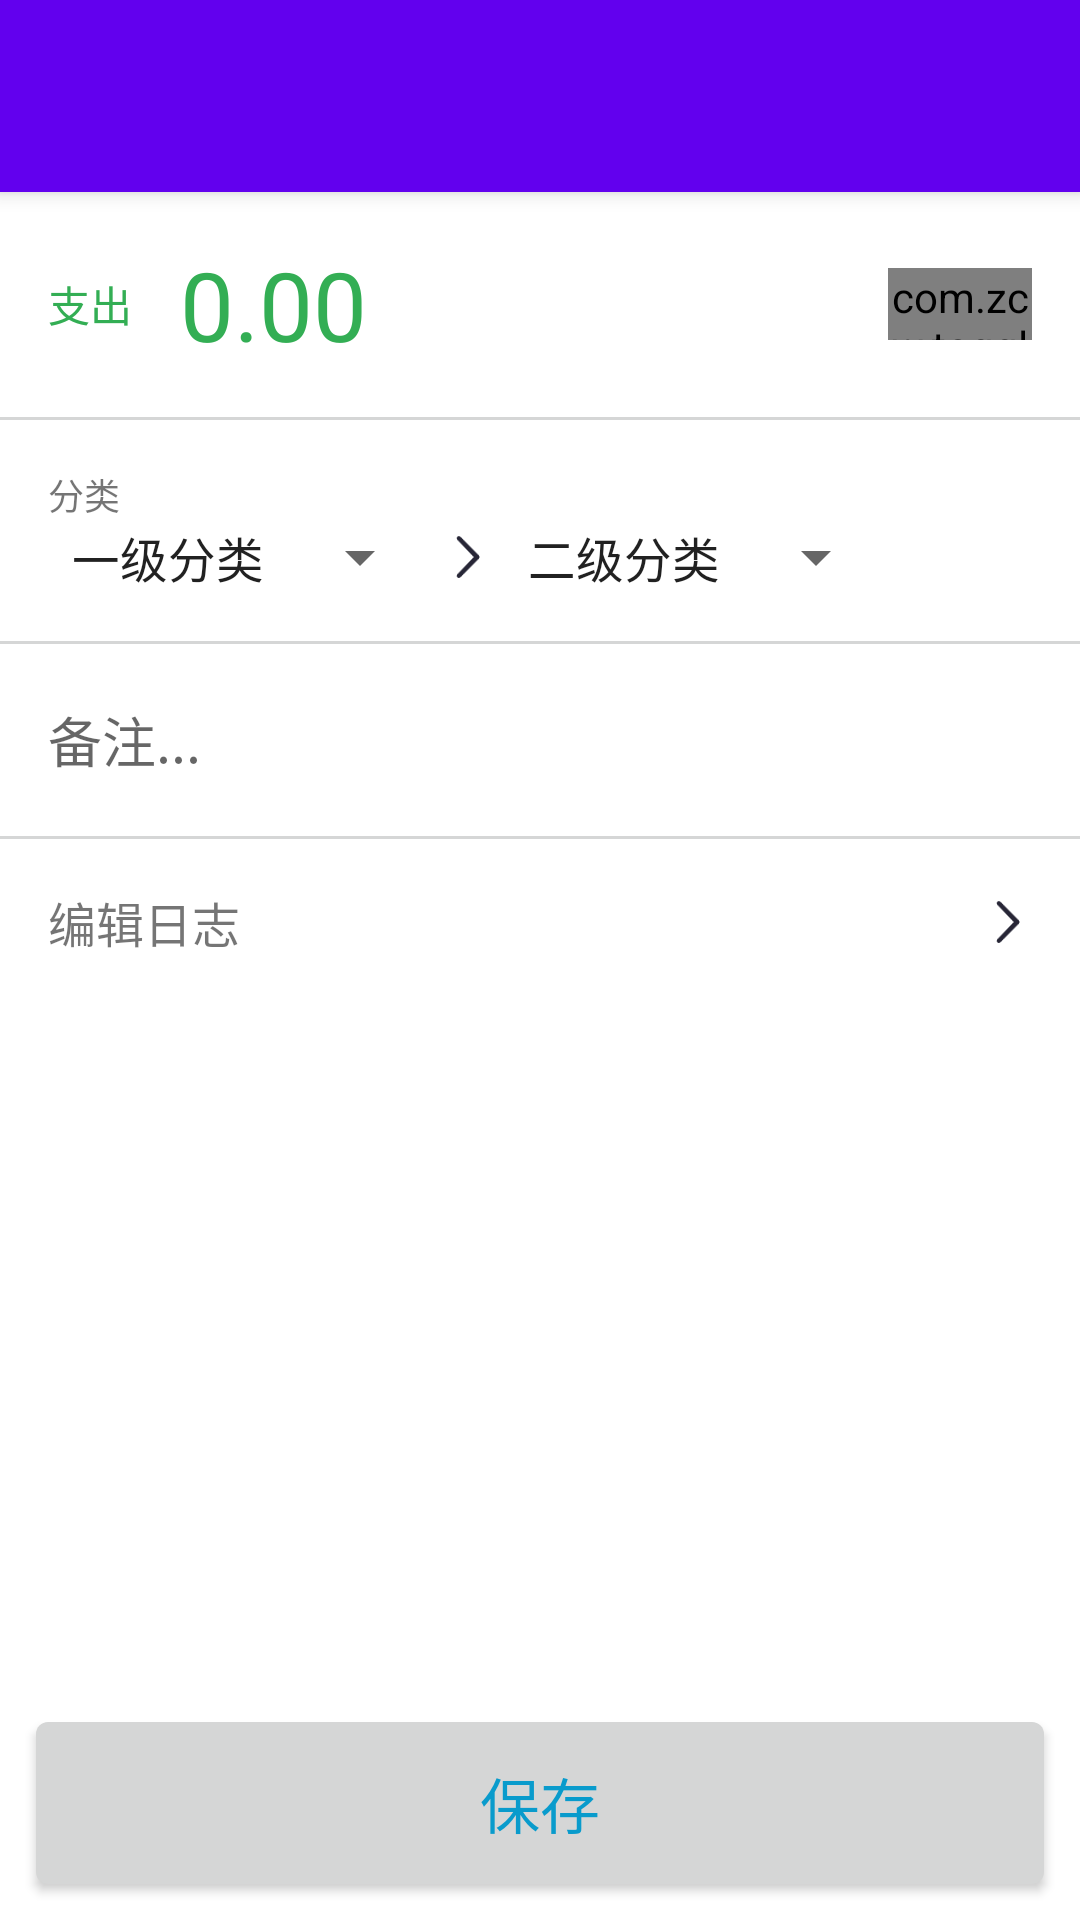

Where icons sit on this 1080*1920 app screen, as bbox=[x1, y1, x2, y2]:
right: bbox=[456, 536, 480, 578], bbox=[996, 901, 1020, 943]
